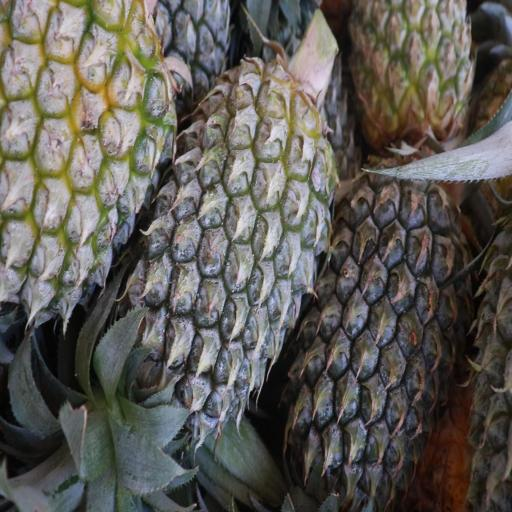------------------------------: (0, 2, 170, 300), (350, 0, 474, 137)
